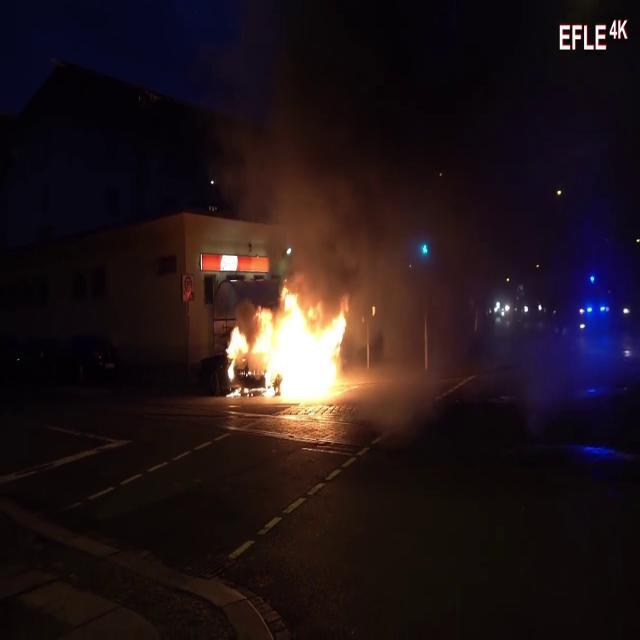Fire: (224, 281, 352, 408)
Smoke: (221, 18, 425, 282)
